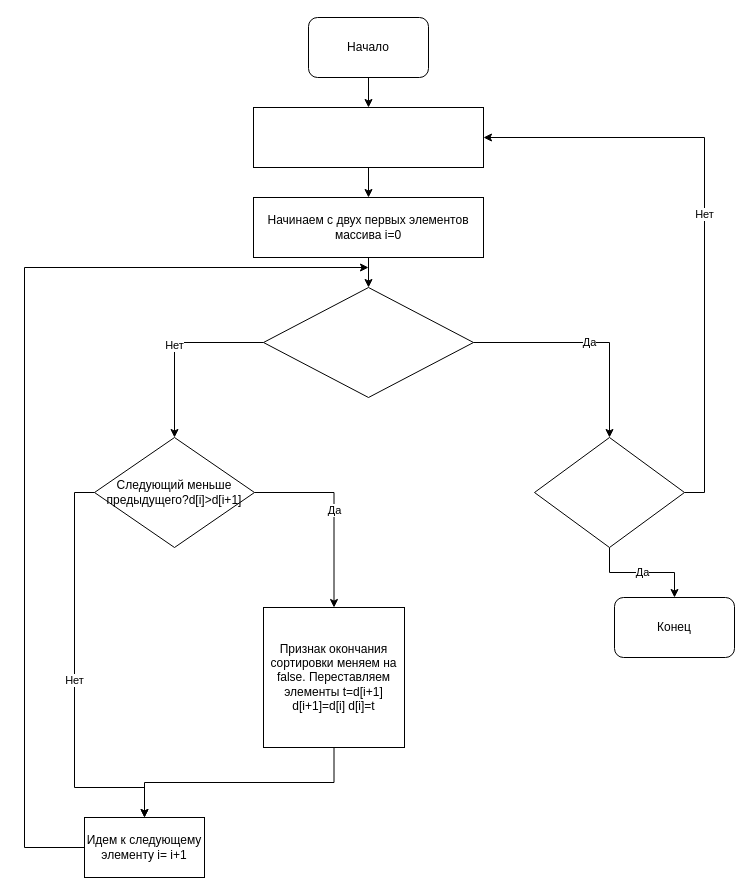
The diagram is 752 pixels wide and 895 high, and some of its shapes have lost their labels. The centre of each missing label's shape, as x and y in pixels:
Все ли сравнили? i=length-2: (368,342)
Массив отсортирован?: (609,492)
Устанавливаем окончание сортировки(true): (368,137)
